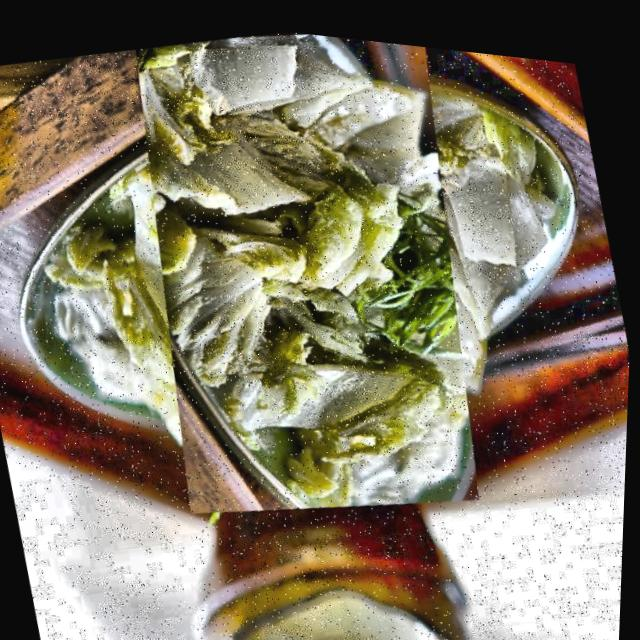Food: (47, 5, 564, 523)
